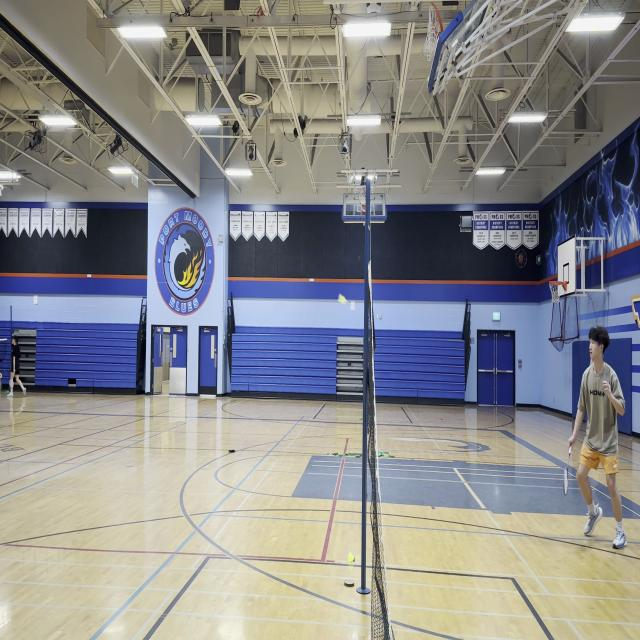shuttlecock: (338, 293, 348, 306)
